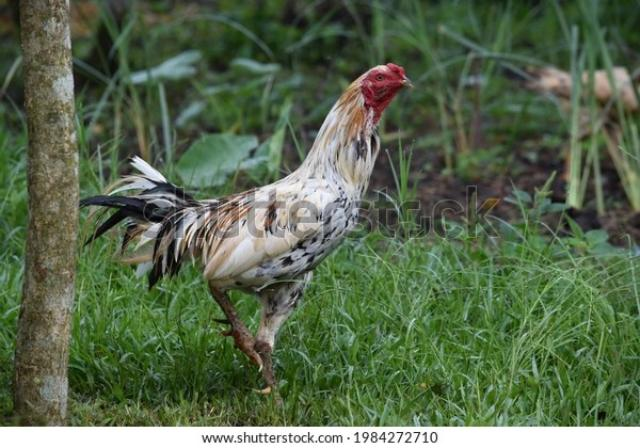Chicken: (79, 62, 416, 393)
